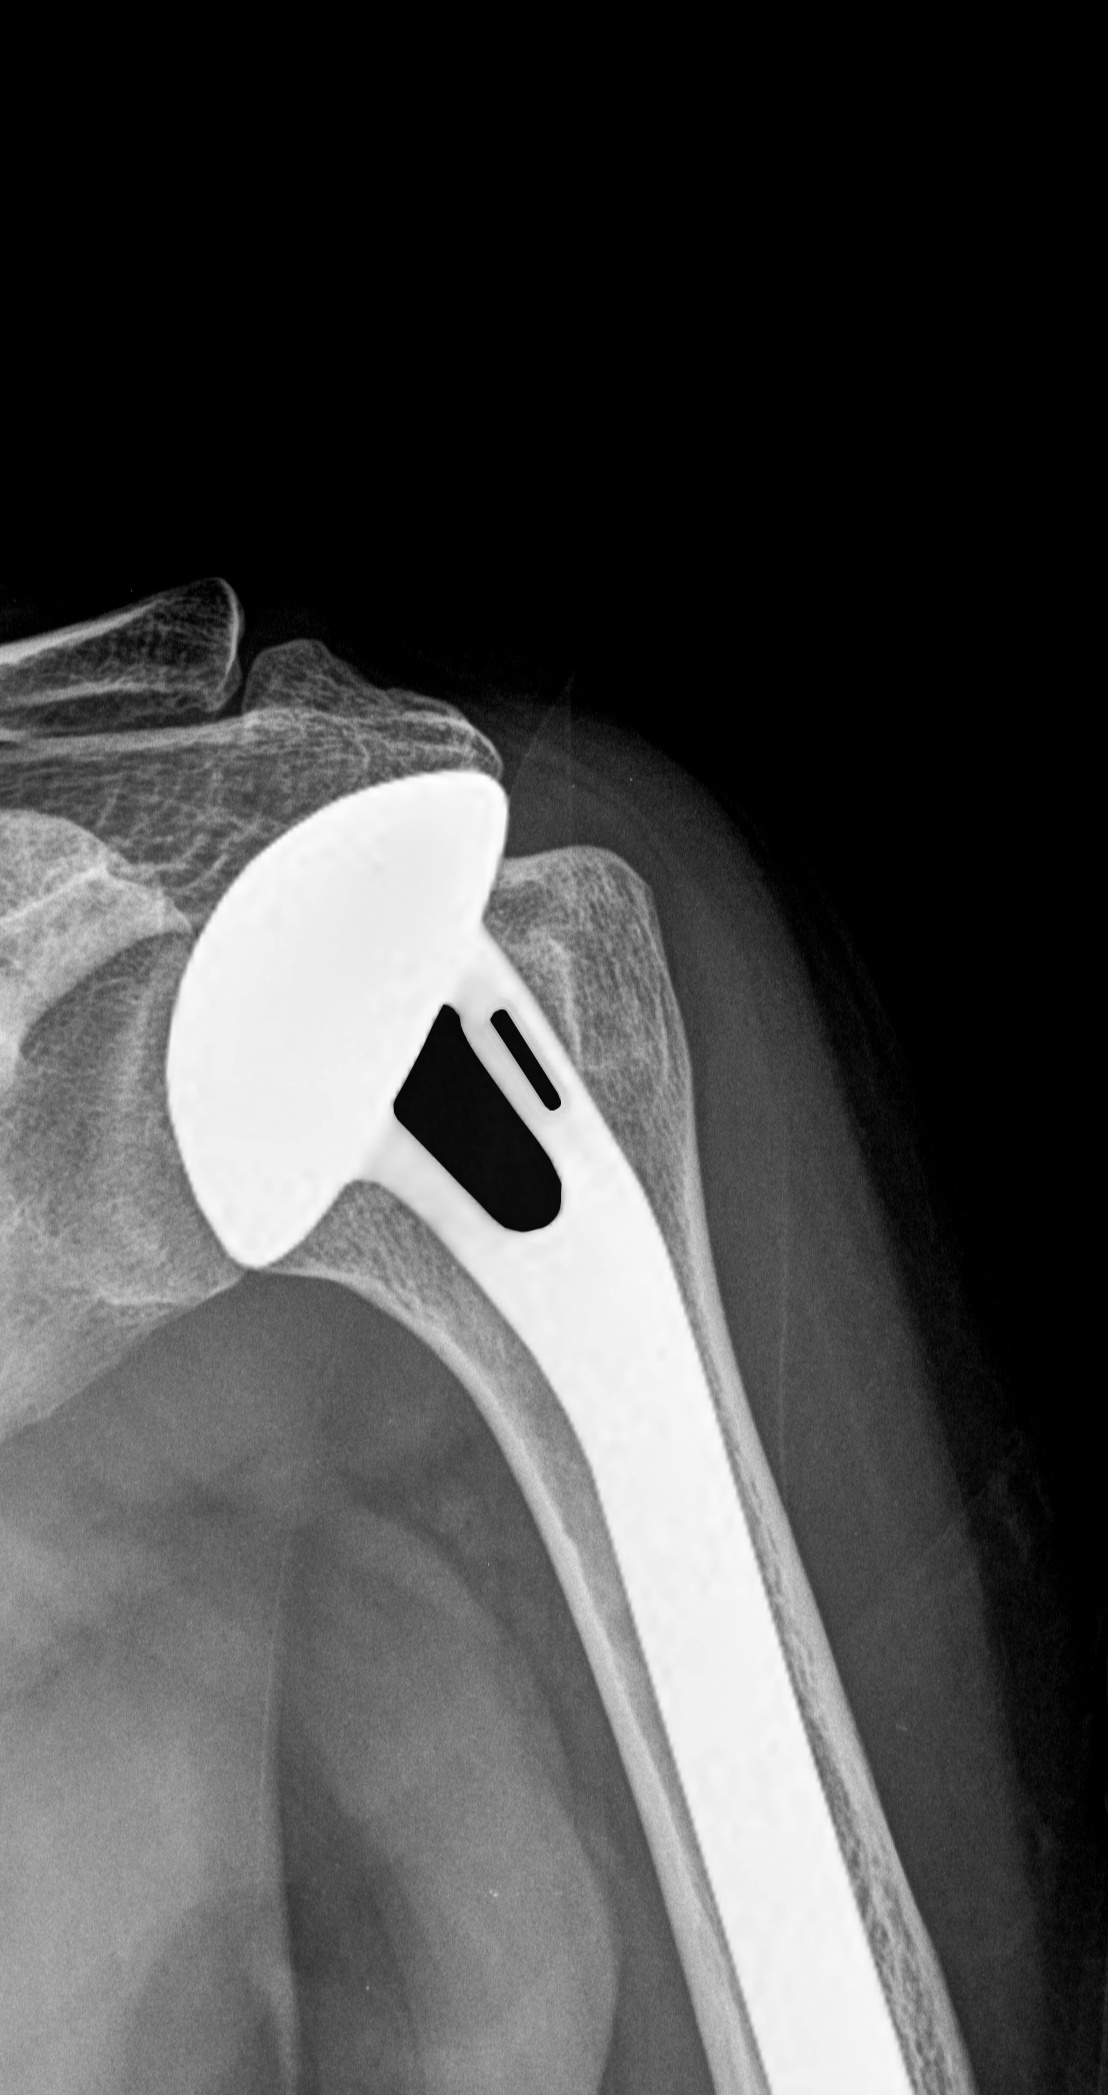Shoulder - AequalisFracture - Tornier: (148, 752, 614, 1290)
